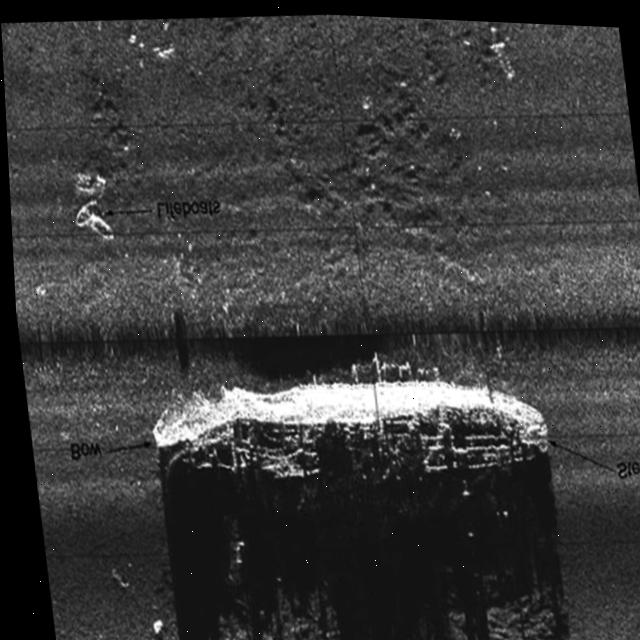shipwreck: (140, 354, 552, 518)
